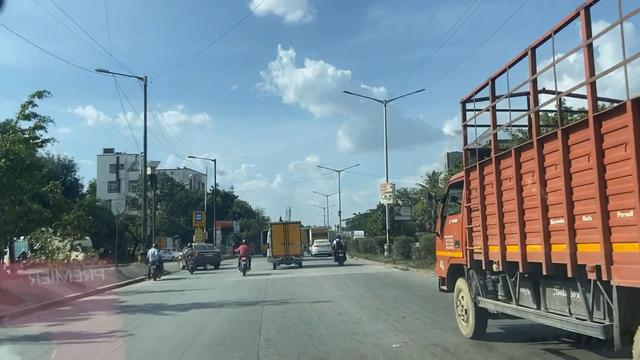HMV: (268, 215, 309, 270)
